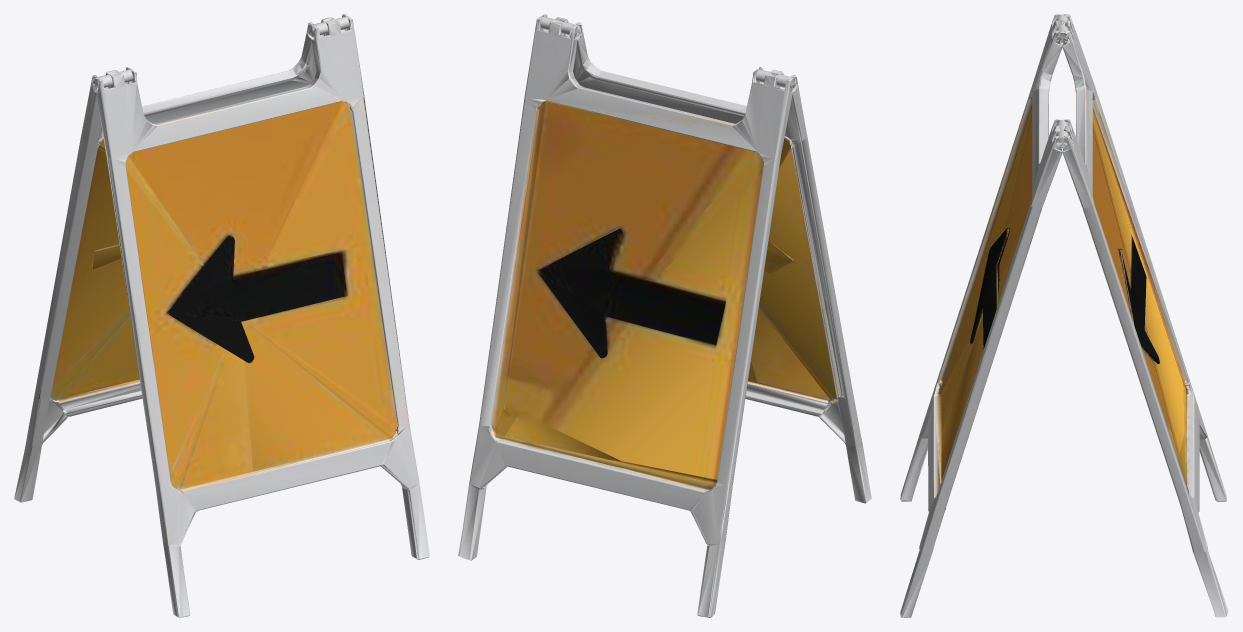
The model's file is aframe.glb.
The picture shows the model from 3 angles, left to right: view 1: azimuth 30°, elevation 25°; view 2: azimuth 150°, elevation 25°; view 3: azimuth 270°, elevation 25°; orthographic projection.
Visible parts, largest first — view 1: Prop_aframe; view 2: Prop_aframe; view 3: Prop_aframe.
Part boxes in pixels (x1=…): Prop_aframe: x1=14, y1=14, x2=429, y2=617; Prop_aframe: x1=458, y1=14, x2=871, y2=617; Prop_aframe: x1=900, y1=14, x2=1228, y2=617.
Bounding box in the file's own units: 0.6256 × 1.13 × 0.7.
Materials: 1 (1 with a texture image).
